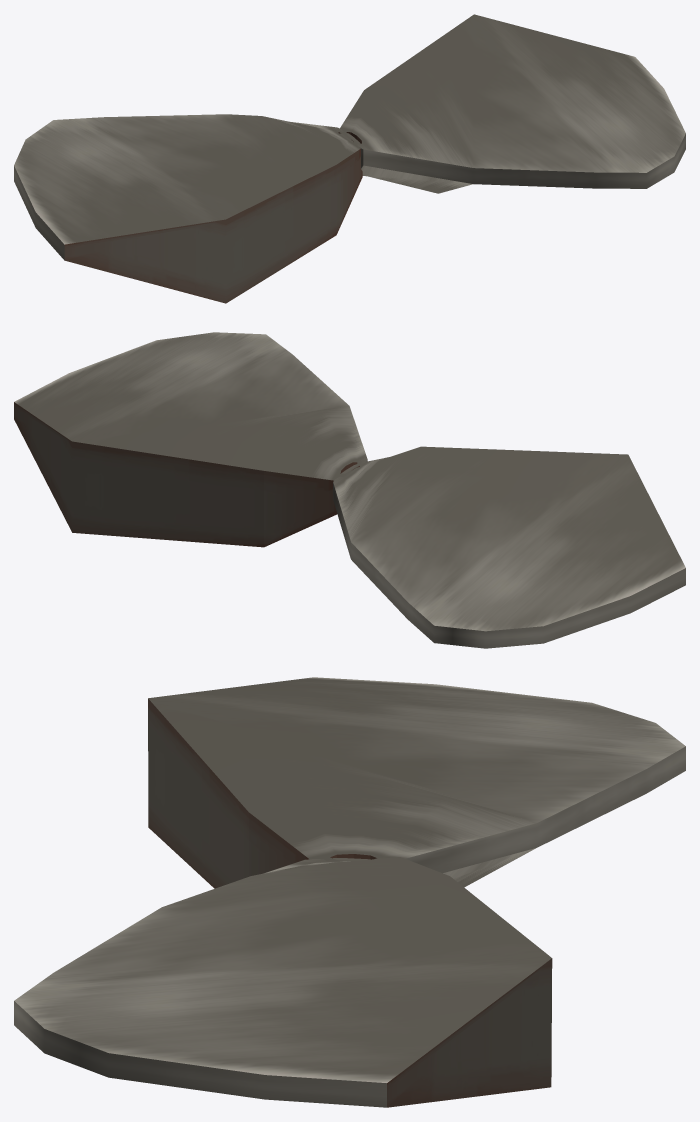
The model's file is SM_SpinningBlade_2BLADE_Squished.fbx.
3 renders of one model, top to bottom at view 1: azimuth 30°, elevation 25°; view 2: azimuth 150°, elevation 25°; view 3: azimuth 270°, elevation 25°, orthographic. The views are drawn at different scales.
Visible parts, largest first — view 1: pCylinder336; view 2: pCylinder336; view 3: pCylinder336.
Boxes of the visible parts, x1,y1,x2,y2 form: pCylinder336: (14,14,685,303); pCylinder336: (14,332,685,648); pCylinder336: (14,677,685,1107).
Bounding box in the file's own units: 19.96 × 3.21 × 12.75.
